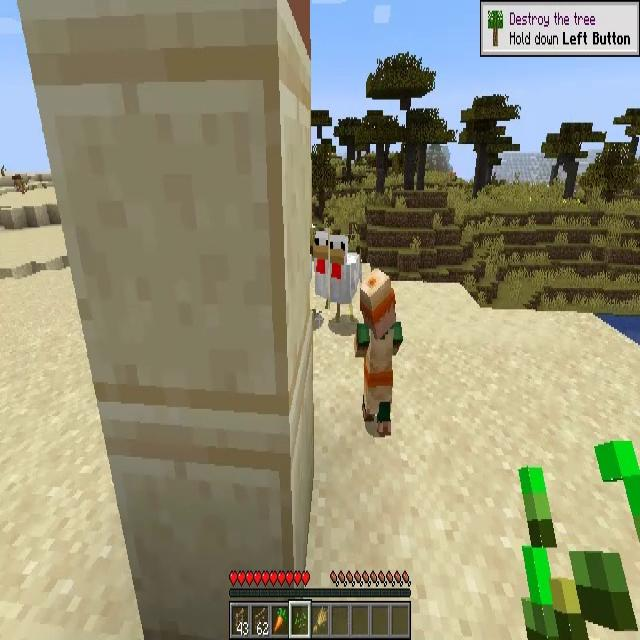duck: (328, 235, 360, 323), (310, 228, 330, 309)
people: (357, 270, 403, 435)
